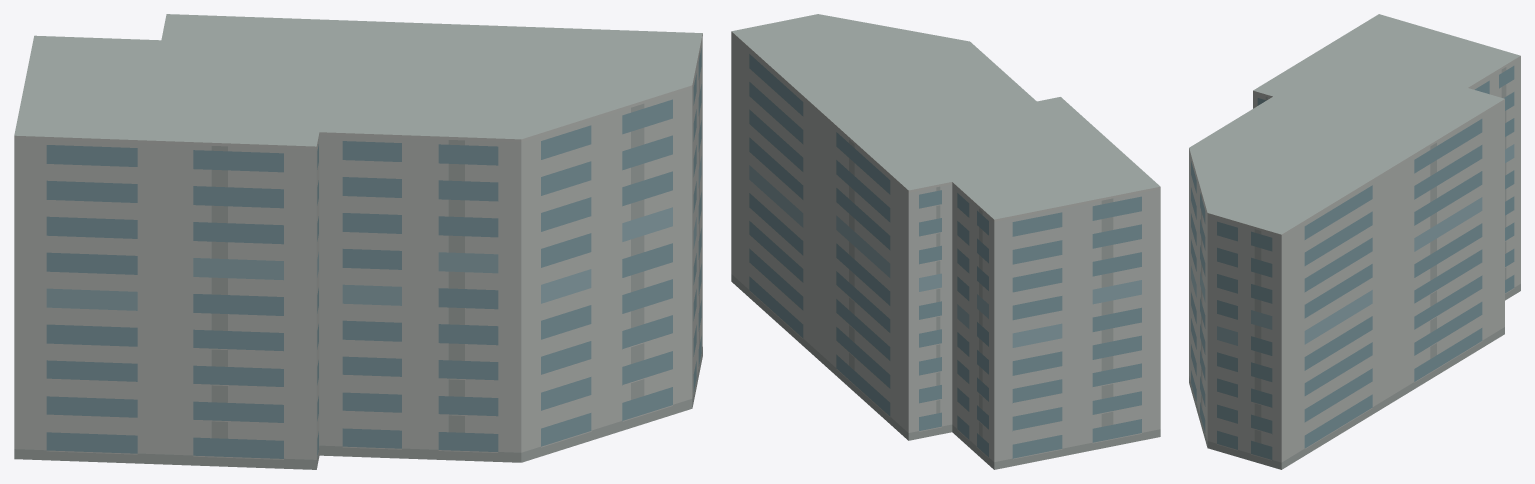
File: residential-66e468e3-ba8a-4ec6-bd56-0a43c70a812a.glb
3 renders of one model, left to right at view 1: azimuth 30°, elevation 25°; view 2: azimuth 150°, elevation 25°; view 3: azimuth 270°, elevation 25°, orthographic. The views are drawn at different scales.
Visible parts, largest first — view 1: residential-66e468e3-ba8a-4ec6-bd56-0a43c70a812a.tmp; view 2: residential-66e468e3-ba8a-4ec6-bd56-0a43c70a812a.tmp; view 3: residential-66e468e3-ba8a-4ec6-bd56-0a43c70a812a.tmp.
Part boxes in pixels (box(x1,y1,x2,y2)): residential-66e468e3-ba8a-4ec6-bd56-0a43c70a812a.tmp: box(14, 14, 702, 469); residential-66e468e3-ba8a-4ec6-bd56-0a43c70a812a.tmp: box(731, 14, 1160, 469); residential-66e468e3-ba8a-4ec6-bd56-0a43c70a812a.tmp: box(1189, 14, 1520, 469).
Size of the model in its own units: 52.31 by 26 by 33.24.
